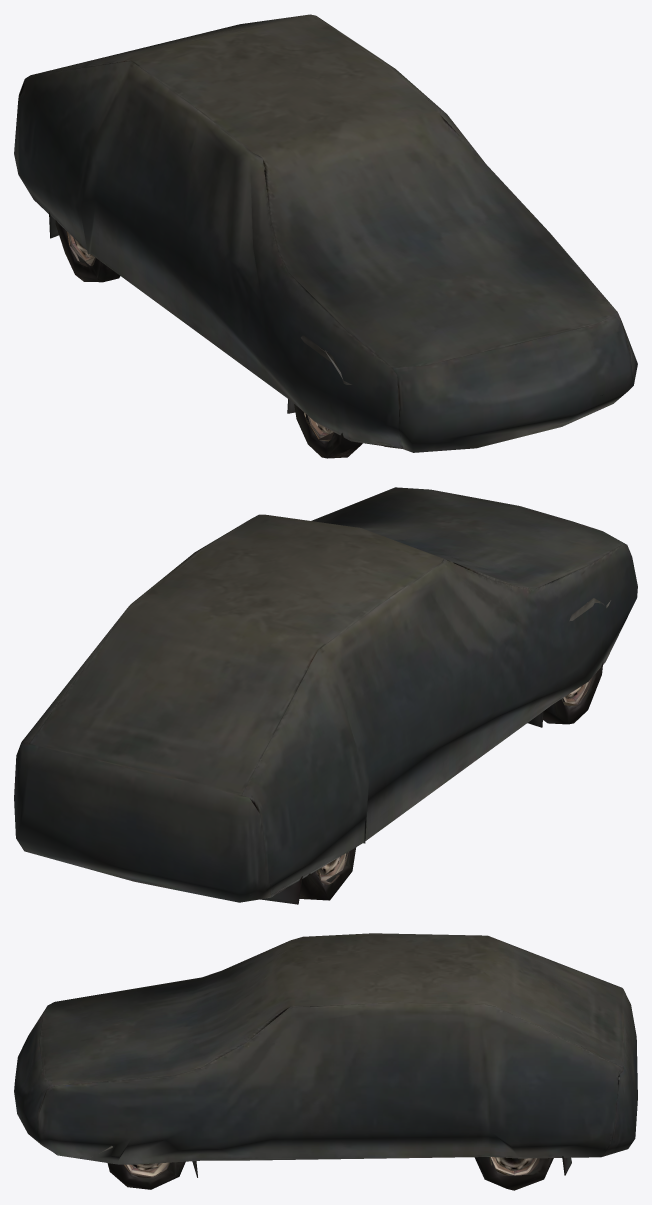
The model's file is covered-car.glb.
3 renders of one model, top to bottom at view 1: azimuth 30°, elevation 25°; view 2: azimuth 150°, elevation 25°; view 3: azimuth 270°, elevation 25°, orthographic. The views are drawn at different scales.
Parts seen in each view (by area): view 1: covered_car_wheel_01; view 2: covered_car_wheel_01; view 3: covered_car_wheel_01.
Boxes of the visible parts, bbox=[...] form: covered_car_wheel_01: bbox=[14, 14, 637, 458]; covered_car_wheel_01: bbox=[14, 487, 637, 904]; covered_car_wheel_01: bbox=[14, 933, 637, 1190].
Bounding box in the file's own units: 1.79 × 1.41 × 4.38.
1 material, 1 textured.
